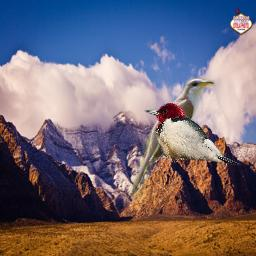Cuckoo: (127, 78, 215, 200)
Woodpecker: (144, 103, 241, 165)
